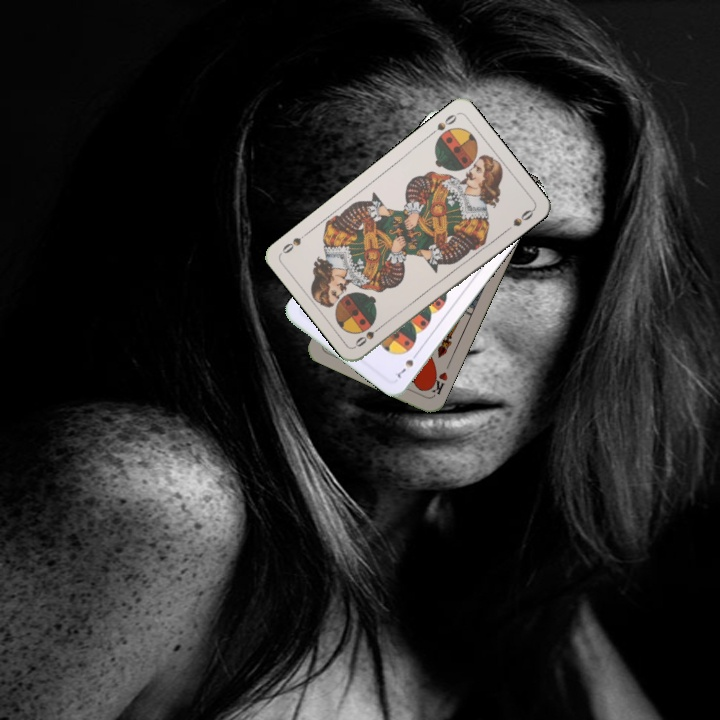HK: (424, 368, 450, 398)
S7: (391, 348, 421, 382)
SO: (351, 320, 386, 350), (425, 110, 460, 139)
